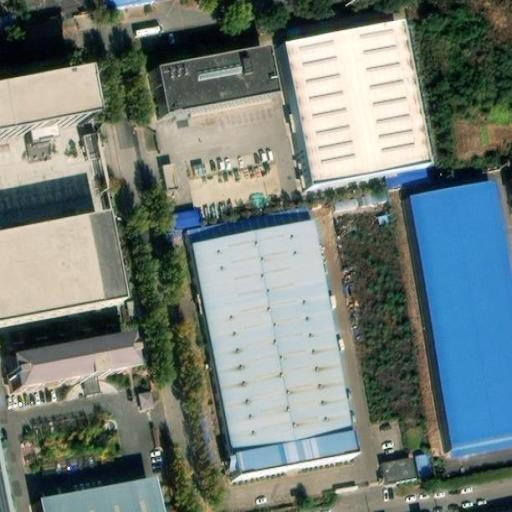building: (189, 219, 362, 475), (409, 181, 512, 448), (285, 19, 434, 184), (0, 214, 117, 320), (146, 49, 265, 119), (4, 334, 133, 393), (186, 205, 312, 243), (39, 475, 164, 512), (80, 124, 116, 205), (381, 451, 430, 485), (383, 161, 431, 191), (164, 208, 203, 239), (102, 0, 153, 11), (132, 384, 154, 409), (162, 163, 176, 187), (0, 14, 13, 31)
